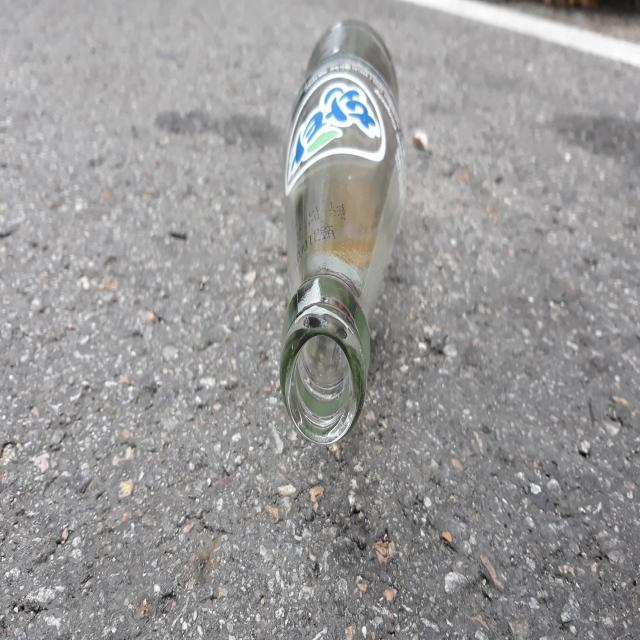glass: (280, 18, 405, 444)
